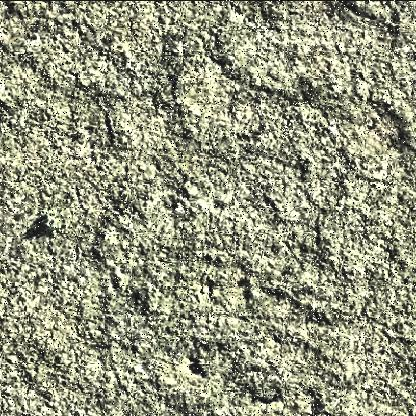tree-top: (33, 213, 59, 239)
